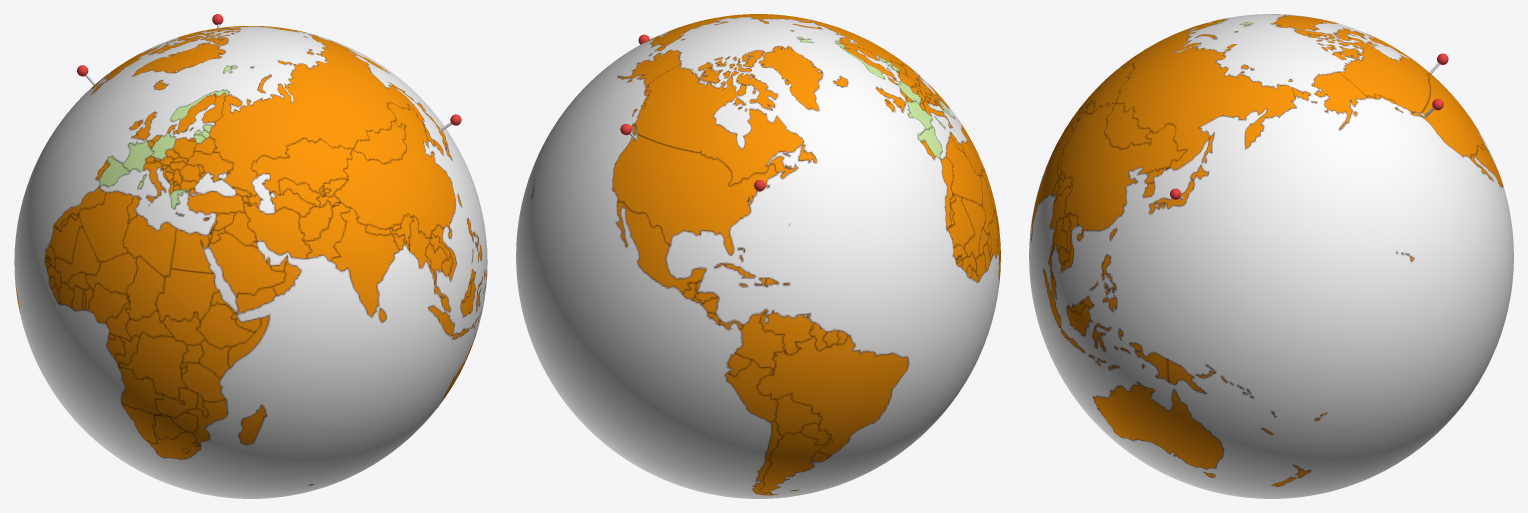
Rendered from globe.glb.
3 views of the same model, side by side, from view 1: azimuth 30°, elevation 25°; view 2: azimuth 150°, elevation 25°; view 3: azimuth 270°, elevation 25° (orthographic). The views are drawn at different scales.
Parts seen in each view (by area): view 1: Globe; view 2: Globe; view 3: Globe.
Part boxes in pixels (left/top/right/bottom): Globe: left=14, top=26, right=487, bottom=498; Globe: left=516, top=14, right=1000, bottom=498; Globe: left=1029, top=14, right=1513, bottom=498.
Size of the model in its own units: 2 by 2 by 2.
Materials: 3 (1 with a texture image).
